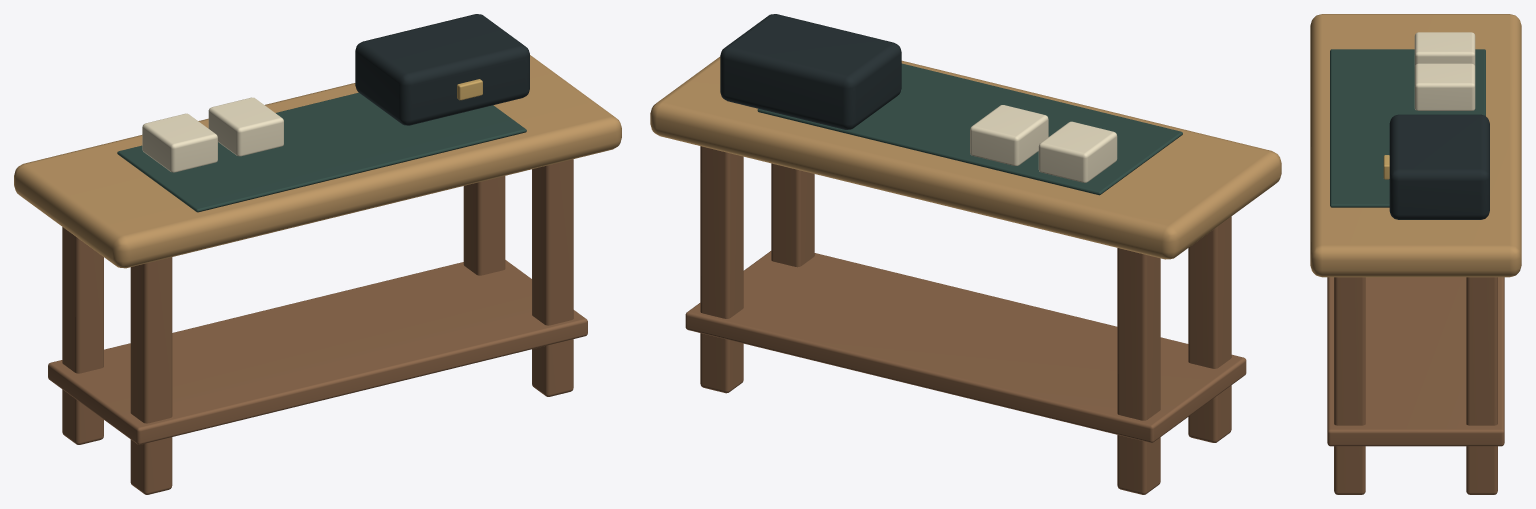
The model's file is gunsmith_bench.glb.
The picture shows the model from 3 angles, left to right: view 1: azimuth 30°, elevation 25°; view 2: azimuth 150°, elevation 25°; view 3: azimuth 270°, elevation 25°; orthographic projection. The views are drawn at different scales.
Visible parts, largest first — view 1: Lower shelf, Bench top, Working mat, Storage case, Bench leg, Bench leg.002, Bench leg.001, Bench leg.003, Ammunition carton, Ammunition carton.001; view 2: Lower shelf, Bench top, Storage case, Working mat, Bench leg.001, Bench leg.003, Bench leg, Bench leg.002, Ammunition carton, Ammunition carton.001; view 3: Bench top, Lower shelf, Working mat, Storage case, Bench leg.002, Bench leg.003, Ammunition carton.001, Ammunition carton.
Part boxes in pixels (<box>): Lower shelf: <box>48,260,587,444</box>; Bench top: <box>14,55,621,268</box>; Working mat: <box>117,92,526,212</box>; Storage case: <box>355,14,529,125</box>; Bench leg: <box>130,257,172,494</box>; Bench leg.002: <box>532,159,573,396</box>; Bench leg.001: <box>62,227,103,444</box>; Bench leg.003: <box>463,176,505,275</box>; Ammunition carton: <box>142,113,217,172</box>; Ammunition carton.001: <box>208,97,283,156</box>; Lower shelf: <box>685,251,1246,442</box>; Bench top: <box>650,56,1281,259</box>; Storage case: <box>720,14,901,129</box>; Working mat: <box>757,63,1182,195</box>; Bench leg.001: <box>1117,248,1160,494</box>; Bench leg.003: <box>700,146,743,393</box>; Bench leg: <box>1188,216,1231,442</box>; Bench leg.002: <box>771,163,814,267</box>; Ammunition carton: <box>1038,121,1117,182</box>; Ammunition carton.001: <box>970,105,1048,165</box>; Bench top: <box>1310,14,1521,277</box>; Lower shelf: <box>1327,277,1504,446</box>; Working mat: <box>1330,49,1485,207</box>; Storage case: <box>1389,114,1489,219</box>; Bench leg.002: <box>1334,277,1365,494</box>; Bench leg.003: <box>1466,277,1497,494</box>; Ammunition carton.001: <box>1414,63,1475,110</box>; Ammunition carton: <box>1414,32,1475,66</box>.
Size of the model in its own units: 2.15 by 1.33 by 0.8.
